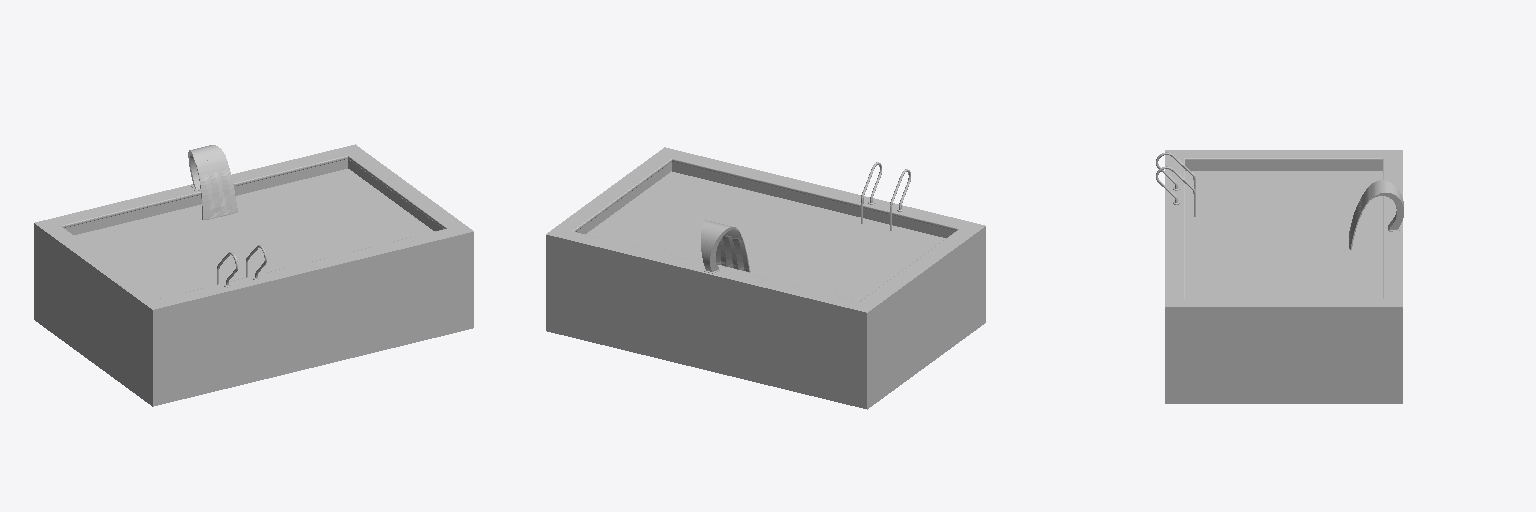
The model's file is Swimming pool.obj.
3 renders of one model, left to right at view 1: azimuth 30°, elevation 25°; view 2: azimuth 150°, elevation 25°; view 3: azimuth 270°, elevation 25°, orthographic.
Parts seen in each view (by area): view 1: desirefx_me_002, desirefx_me_001, desirefx_me_007, desirefx_me_008; view 2: desirefx_me_002, desirefx_me_001, desirefx_me_007, desirefx_me_008, desirefx_me_004; view 3: desirefx_me_002, desirefx_me_001, desirefx_me_008, desirefx_me_004.
Boxes of the visible parts, <box> form: desirefx_me_002: <box>34,144,473,406</box>; desirefx_me_001: <box>74,169,434,297</box>; desirefx_me_007: <box>196,156,237,219</box>; desirefx_me_008: <box>188,145,225,190</box>; desirefx_me_002: <box>546,147,985,409</box>; desirefx_me_001: <box>586,171,945,300</box>; desirefx_me_007: <box>716,229,750,272</box>; desirefx_me_008: <box>701,220,737,273</box>; desirefx_me_004: <box>861,162,910,230</box>; desirefx_me_002: <box>1165,150,1402,403</box>; desirefx_me_001: <box>1185,171,1382,298</box>; desirefx_me_008: <box>1370,180,1403,231</box>; desirefx_me_004: <box>1156,152,1195,216</box>.
Bounding box in the file's own units: 5566 × 2295 × 3727.